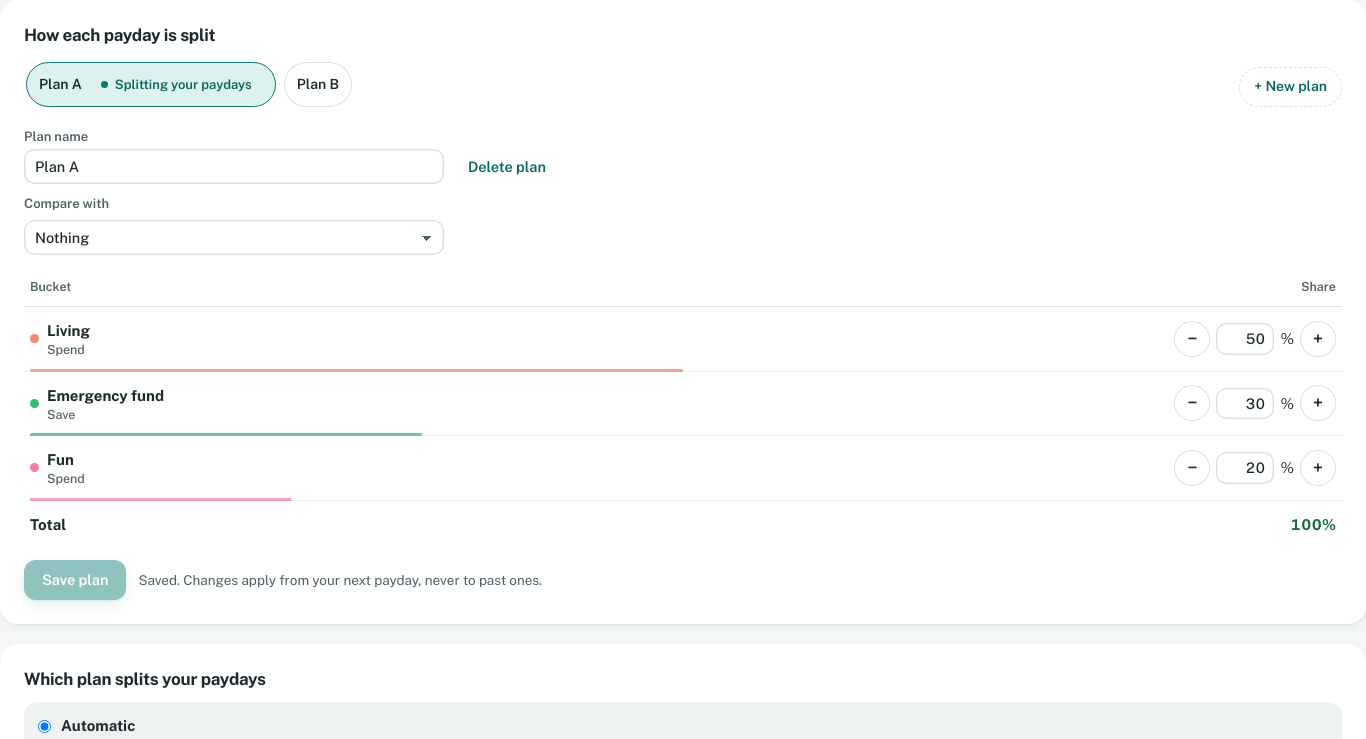
Test case: plan bar and editor › saves at 100 in basis points for that plan only, and announces it
This screenshot has width=1366, height=739.
Replace the text in the field named "Living percent" with "45" at (1245, 339), box [1216,323,1274,354]
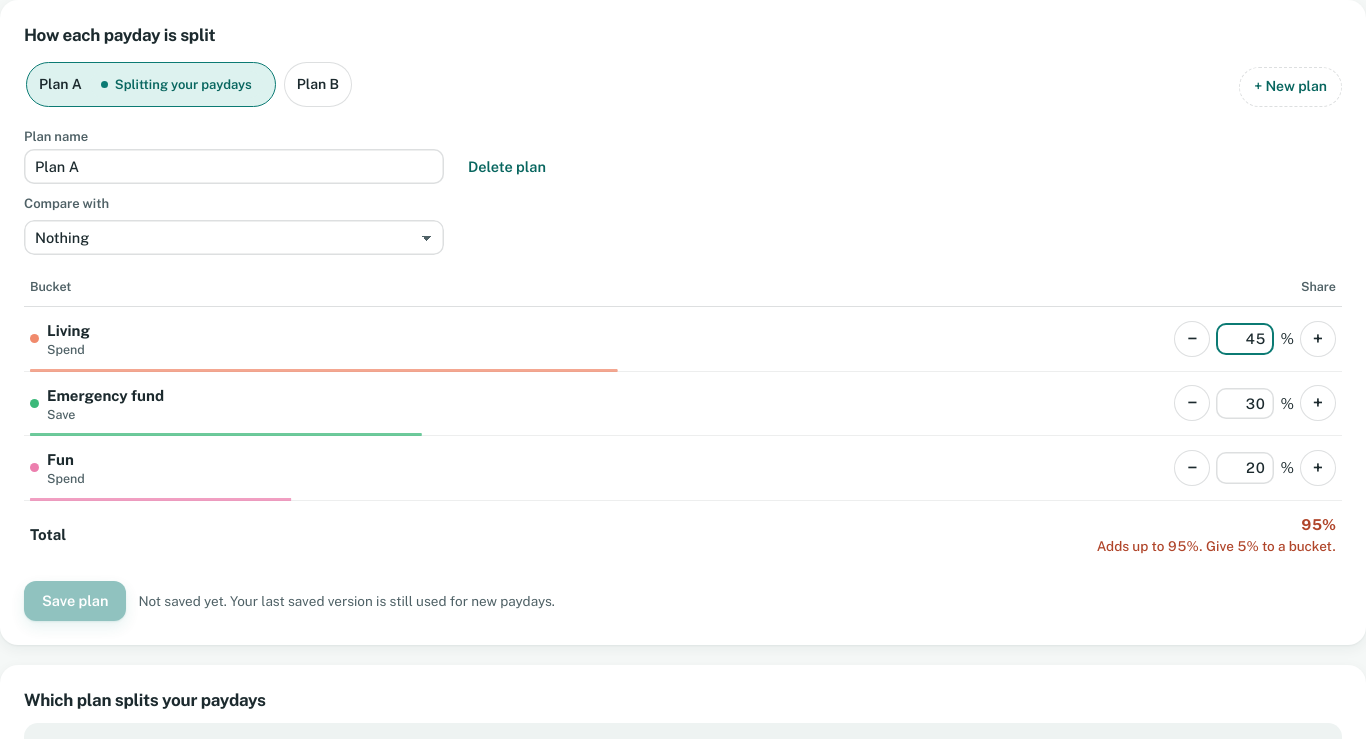
Replace the text in the field named "Emergency fund percent" with "35" at (1245, 403), box [1216,388,1274,419]
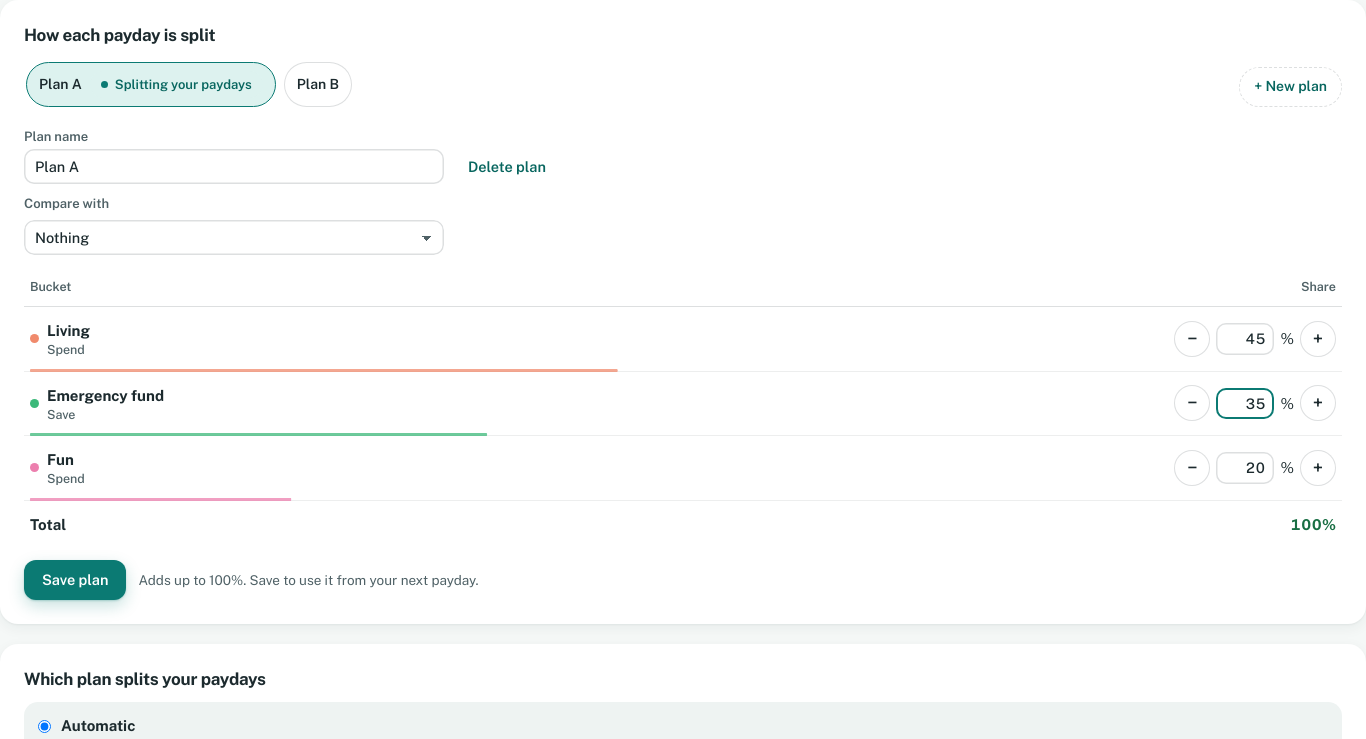
Click the button "Save plan" at (75, 580), box [24,560,126,600]
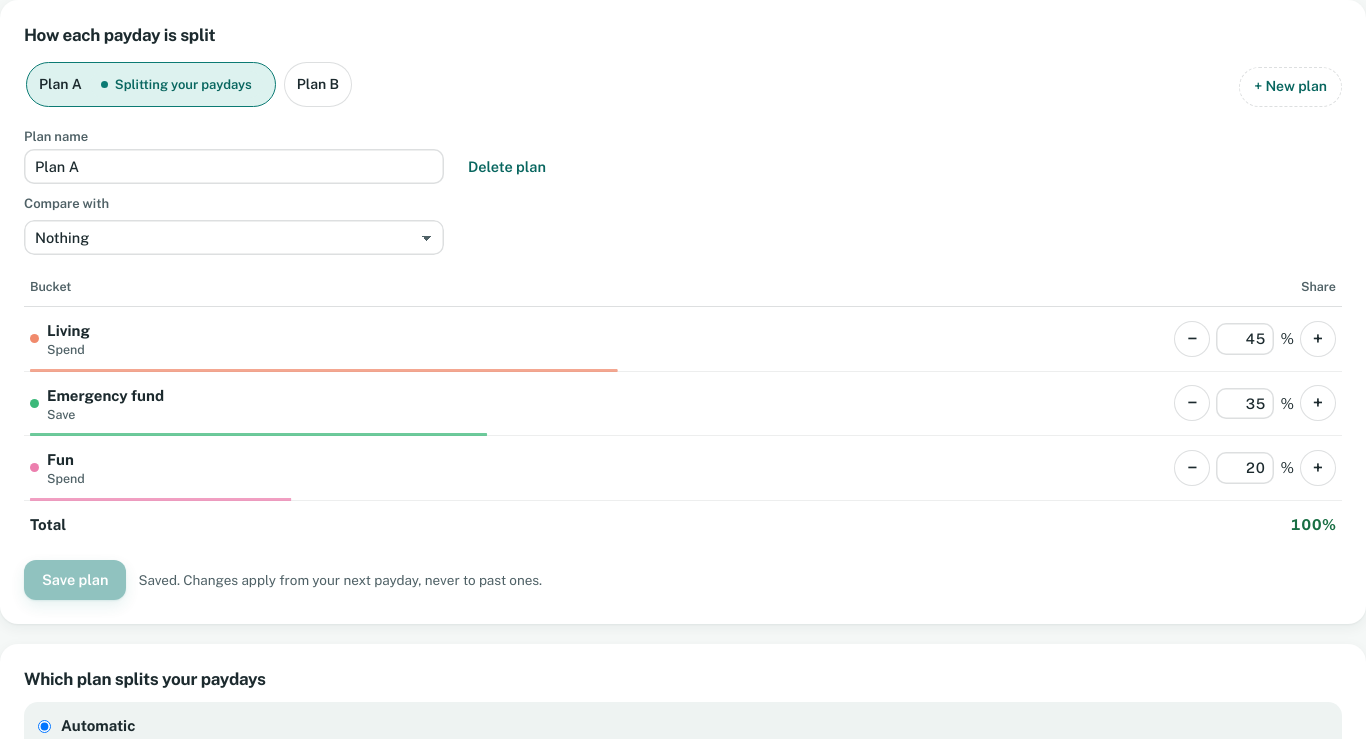
Now the button "Save plan" is disabled, box [24,560,126,600]
